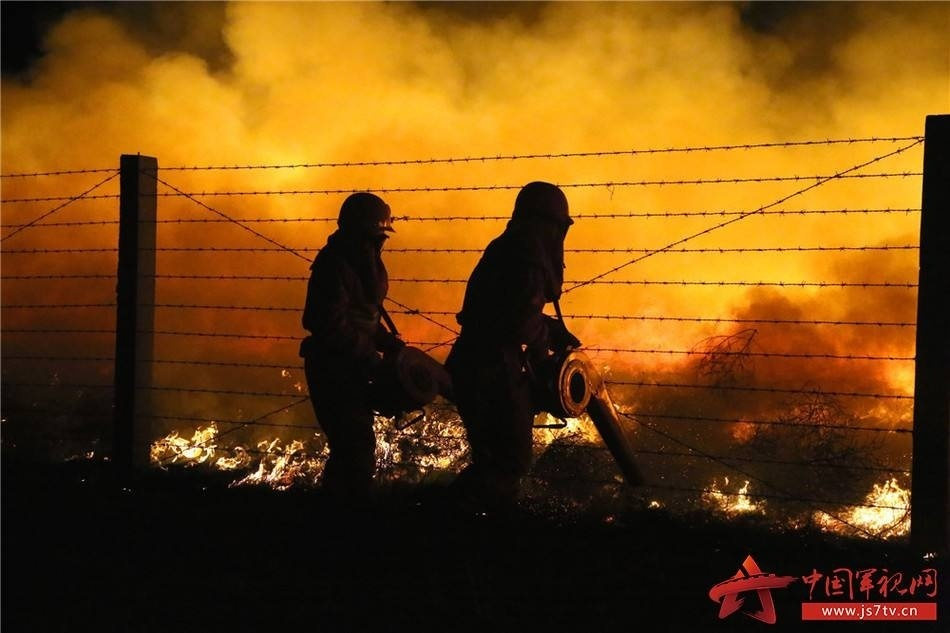fire: (146, 417, 328, 489), (368, 399, 467, 480), (809, 470, 913, 539), (526, 403, 597, 451), (703, 471, 762, 517)
